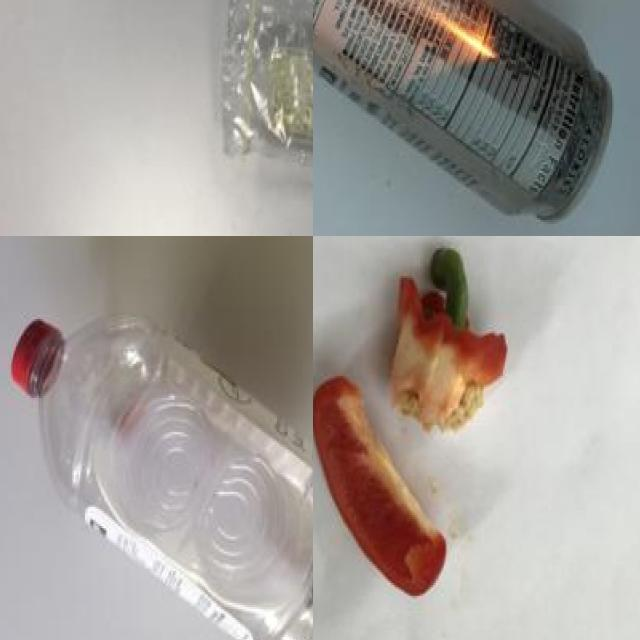compost: (313, 236, 561, 620)
plastic: (10, 298, 313, 640), (313, 0, 615, 219)
trash: (208, 0, 313, 229)
